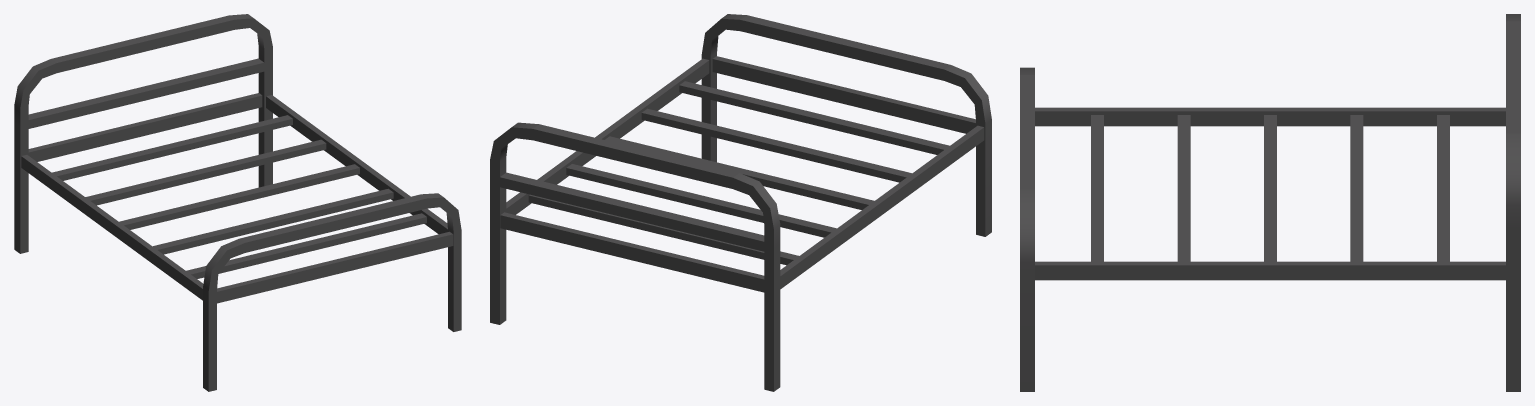
Rendered from SM_Prop_Bed_Frame_Large_01.glb.
The picture shows the model from 3 angles, left to right: view 1: azimuth 30°, elevation 25°; view 2: azimuth 150°, elevation 25°; view 3: azimuth 270°, elevation 25°; orthographic projection. The views are drawn at different scales.
Parts seen in each view (by area): view 1: SM_Prop_Bed_Frame_Large_01; view 2: SM_Prop_Bed_Frame_Large_01; view 3: SM_Prop_Bed_Frame_Large_01.
Boxes of the visible parts, <box> form: SM_Prop_Bed_Frame_Large_01: <box>14,14,461,391</box>; SM_Prop_Bed_Frame_Large_01: <box>490,14,991,391</box>; SM_Prop_Bed_Frame_Large_01: <box>1020,14,1520,391</box>.
Bounding box in the file's own units: 1.68 × 1.16 × 2.24.
Materials: 1 (1 with a texture image).
